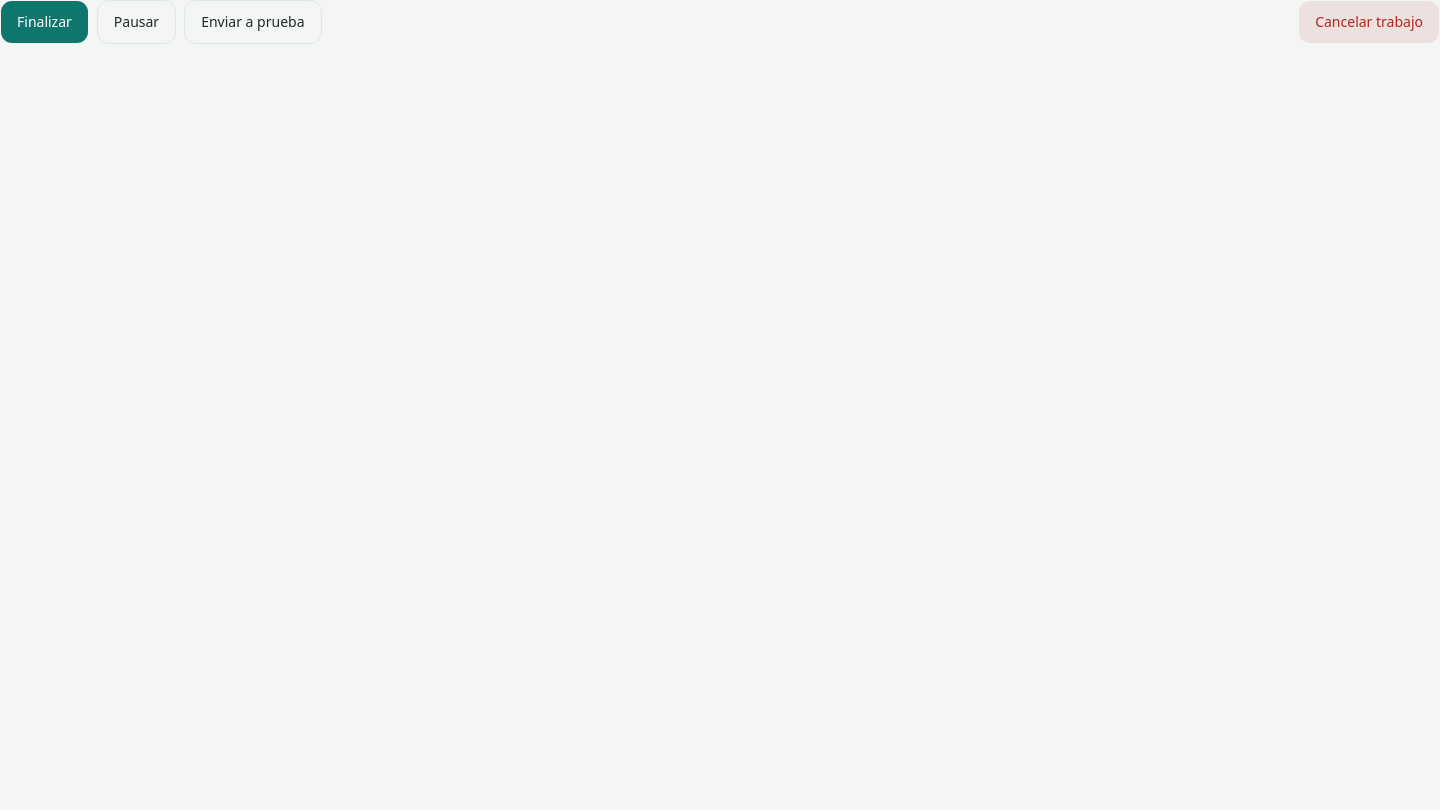
Test: CaseActions › el diálogo de «Cancelar trabajo» nombra la acción y su efecto
This screenshot has width=1440, height=810.
Click the button "Cancelar trabajo" at (1369, 22), box x1=1298 y1=0 x2=1439 y2=44
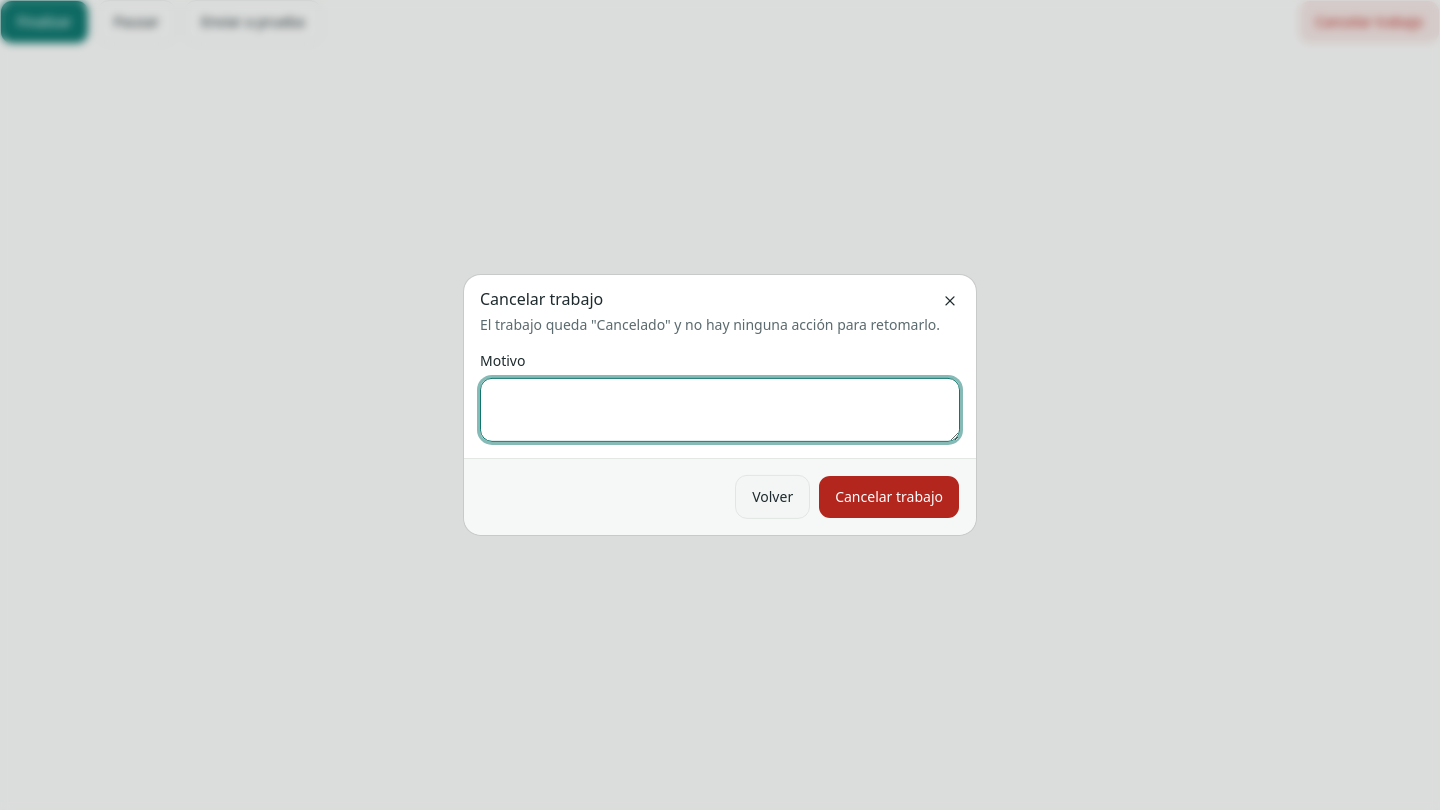
Now the heading "Cancelar trabajo" is shown, box x1=480 y1=288 x2=603 y2=310
Now the text "El trabajo queda \"Cancelado\" y no hay ninguna acción para retomarlo." is shown, box x1=480 y1=315 x2=960 y2=335
Now the button "Cancelar trabajo" is shown, box x1=818 y1=475 x2=960 y2=519
